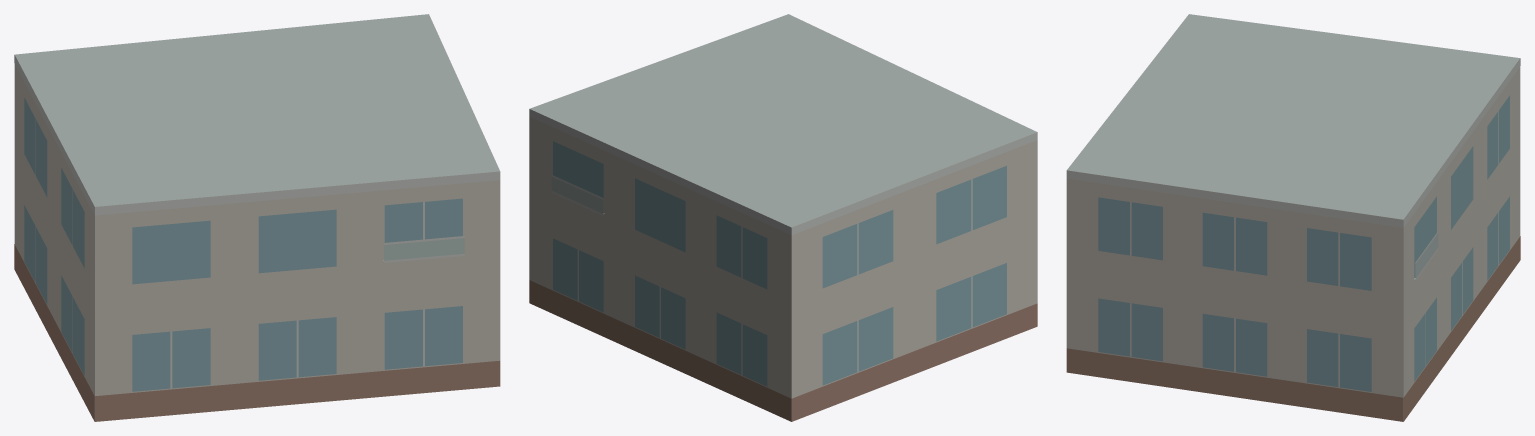
File: survey-upis-32882511.glb
The picture shows the model from 3 angles, left to right: view 1: azimuth 30°, elevation 25°; view 2: azimuth 150°, elevation 25°; view 3: azimuth 270°, elevation 25°; orthographic projection. The views are drawn at different scales.
Visible parts, largest first — view 1: survey-upis-32882511.tmp; view 2: survey-upis-32882511.tmp; view 3: survey-upis-32882511.tmp.
Part boxes in pixels (<box>): survey-upis-32882511.tmp: <box>14,14,500,421</box>; survey-upis-32882511.tmp: <box>529,14,1037,421</box>; survey-upis-32882511.tmp: <box>1066,14,1520,421</box>.
Size of the model in its own units: 13.32 by 6.1 by 12.42.
